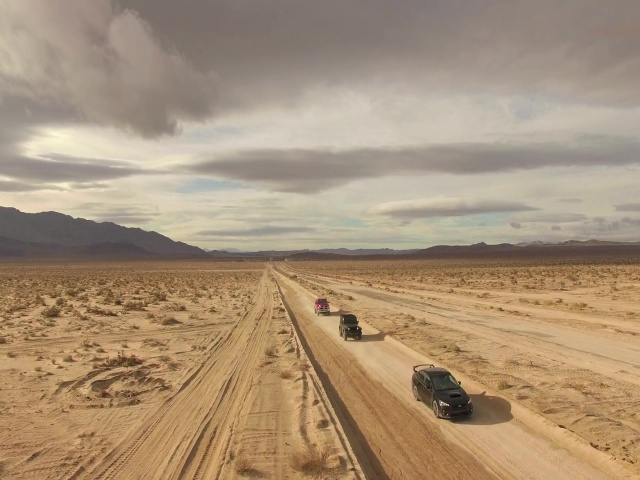vehicle: (410, 362, 474, 420), (337, 312, 364, 341), (314, 297, 332, 317)
